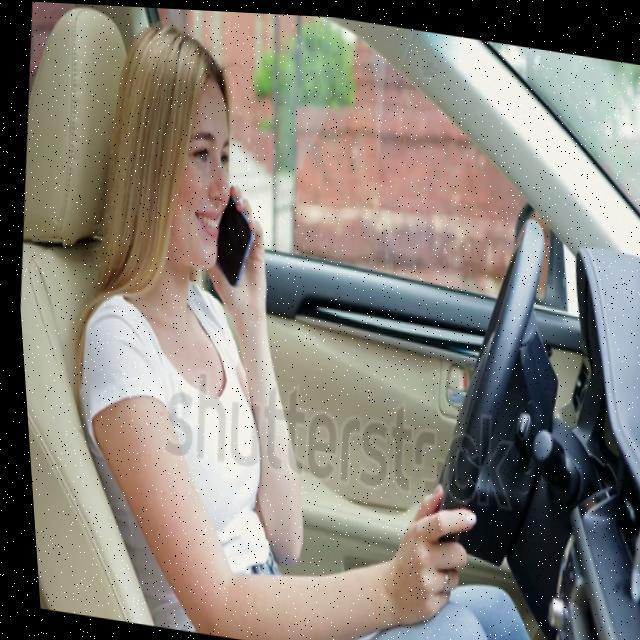PhoneCall: (200, 181, 258, 290)
